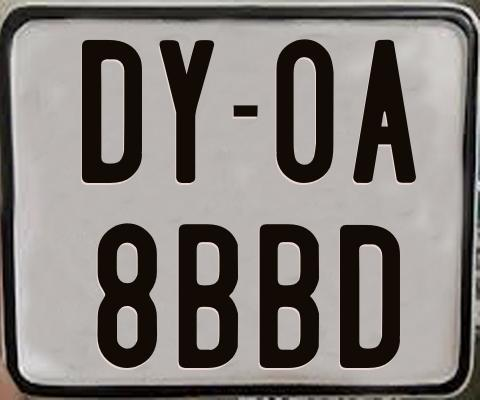0: (273, 39, 332, 184)
8: (95, 222, 157, 368)
A: (352, 40, 421, 183)
B: (260, 222, 324, 367), (177, 222, 238, 369)
D: (339, 225, 400, 372), (80, 38, 141, 181)
Y: (159, 37, 220, 180)
